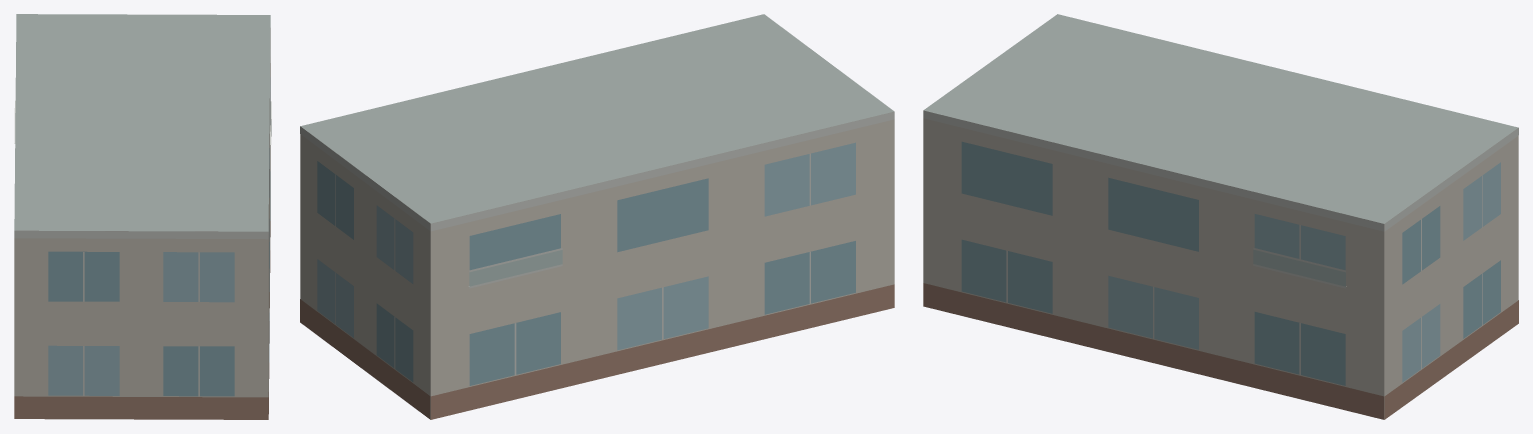
Rendered from survey-upis-32721502.glb.
The picture shows the model from 3 angles, left to right: view 1: azimuth 30°, elevation 25°; view 2: azimuth 150°, elevation 25°; view 3: azimuth 270°, elevation 25°; orthographic projection. The views are drawn at different scales.
Visible parts, largest first — view 1: survey-upis-32721502.tmp; view 2: survey-upis-32721502.tmp; view 3: survey-upis-32721502.tmp.
Boxes of the visible parts, bbox=[...] form: survey-upis-32721502.tmp: bbox=[14, 14, 271, 419]; survey-upis-32721502.tmp: bbox=[300, 14, 894, 419]; survey-upis-32721502.tmp: bbox=[923, 14, 1518, 419].
Size of the model in its own units: 14.02 by 6.1 by 16.81.
